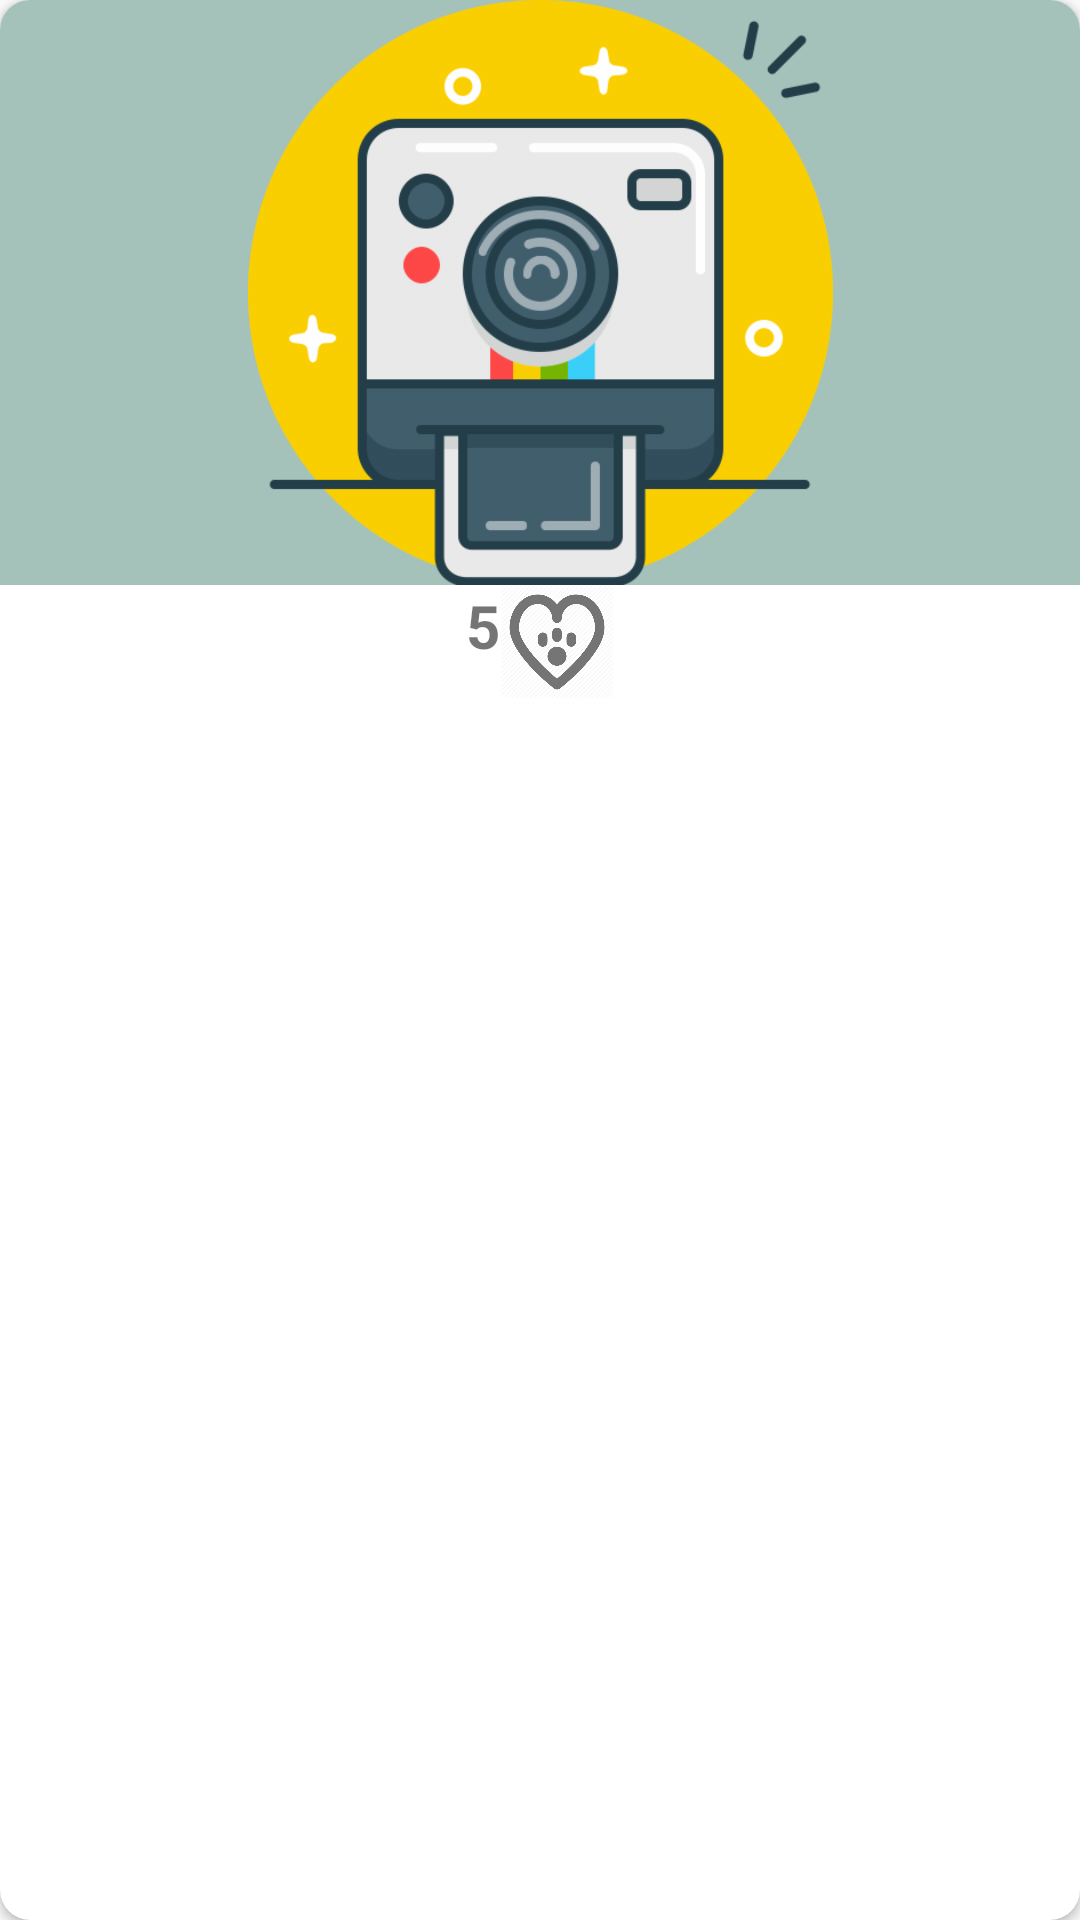

Icons on this 1080*1920 Android screen, each with the point to tap as (x,y):
pet love: (557,642)
